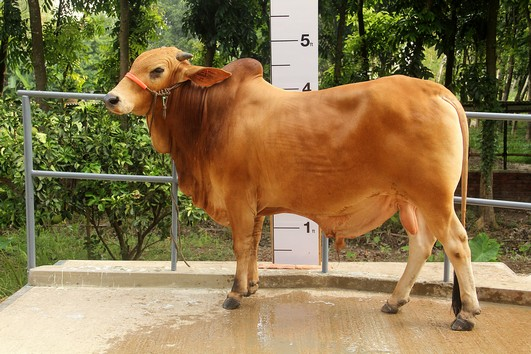cow: (99, 41, 488, 338)
